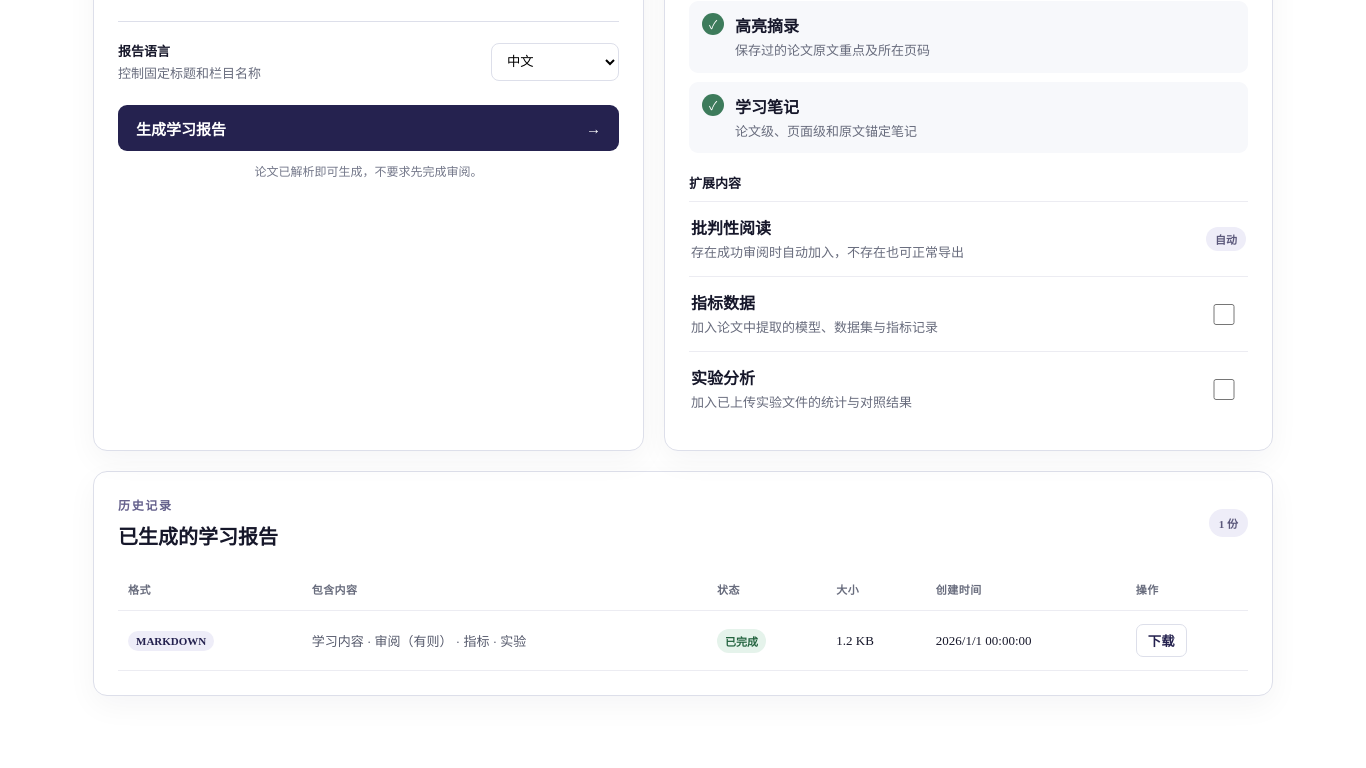
ReportExportView › shows a safe download error
(page scrolled)
Click the button with class "btn-small": coordinates (1161, 640) [1136,624,1186,657]
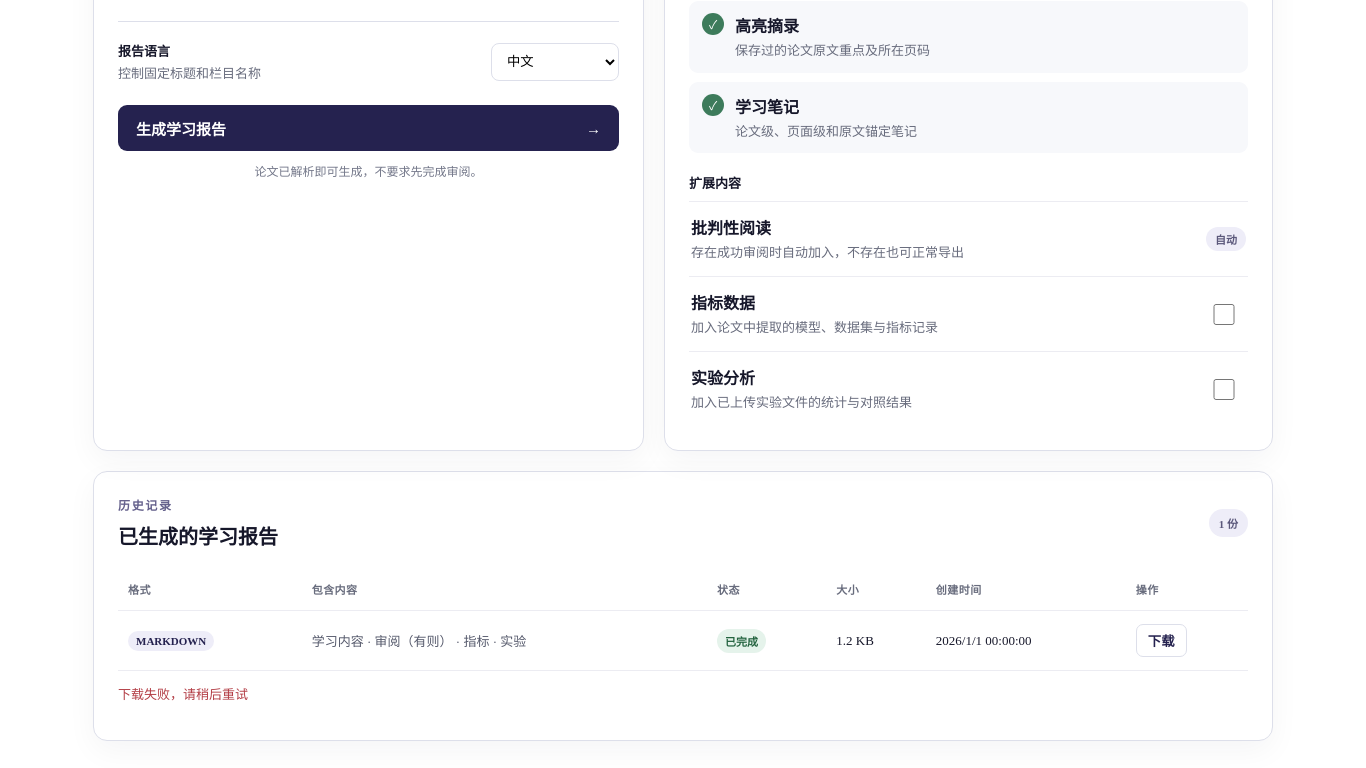
Expected: the text "下载失败，请稍后重试" is shown, [118,687,248,702]
